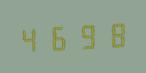eight: (99, 18, 125, 50)
four: (18, 22, 44, 54)
nine: (72, 20, 98, 51)
six: (45, 21, 71, 53)
